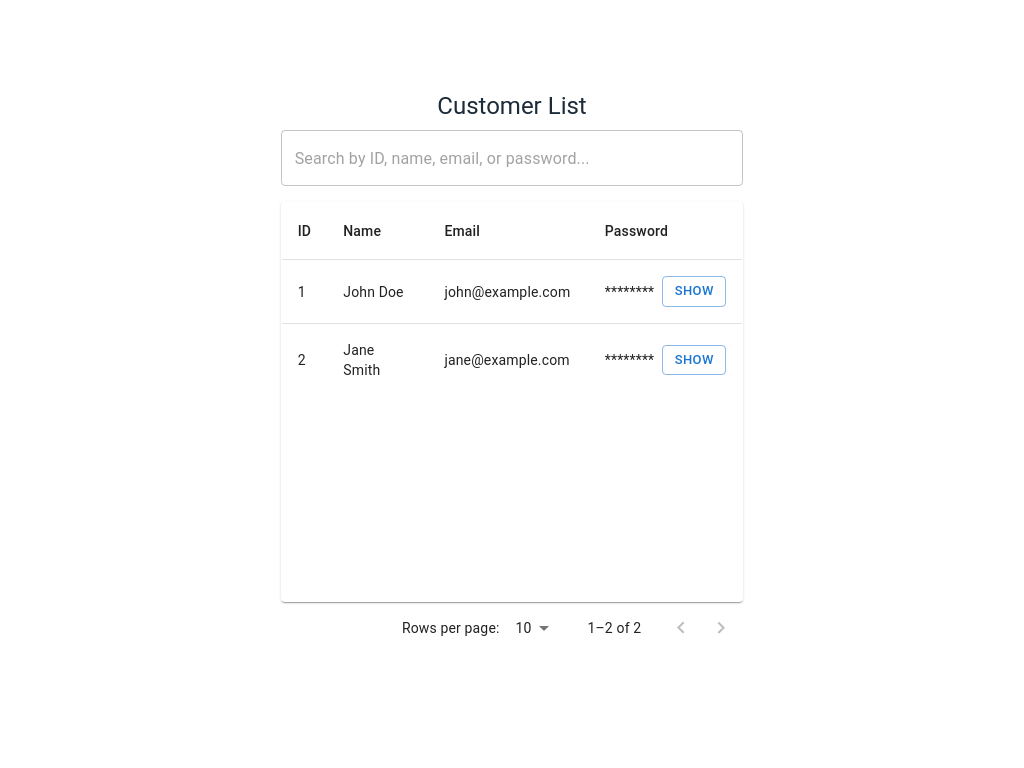
Test case: opens update modal when customer row is clicked
This screenshot has width=1024, height=768.
Expected: the text "John Doe" is shown, [327,260,428,324]
Click the row with test id "customer-row-1": [512, 292] box [281,260,743,324]
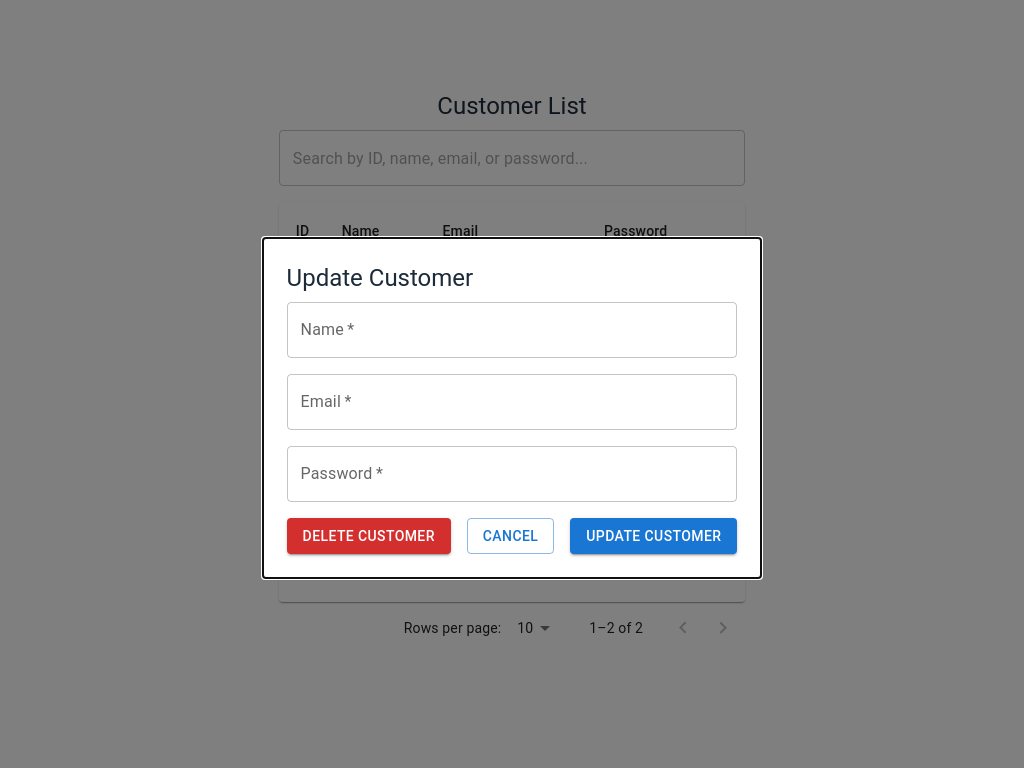
Result: the button with test id "delete-customer-btn" is shown at [287,518,451,554]
